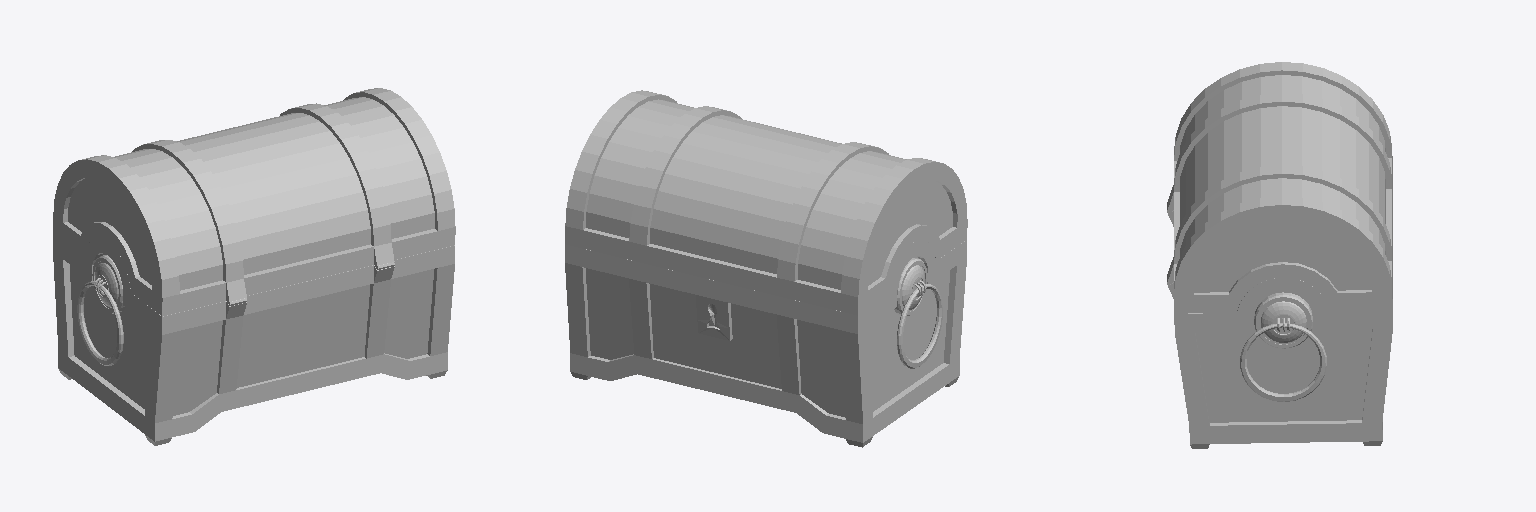
Rendered from chest.obj.
3 renders of one model, left to right at view 1: azimuth 30°, elevation 25°; view 2: azimuth 150°, elevation 25°; view 3: azimuth 270°, elevation 25°, orthographic.
Visible parts, largest first — view 1: Chest_Base; view 2: Chest_Base; view 3: Chest_Base.
Part boxes in pixels (x1,y1,x2,y2): Chest_Base: (53,88,455,445); Chest_Base: (565,90,967,447); Chest_Base: (1167,62,1392,448).
Size of the model in its own units: 2.63 by 1.95 by 1.63.